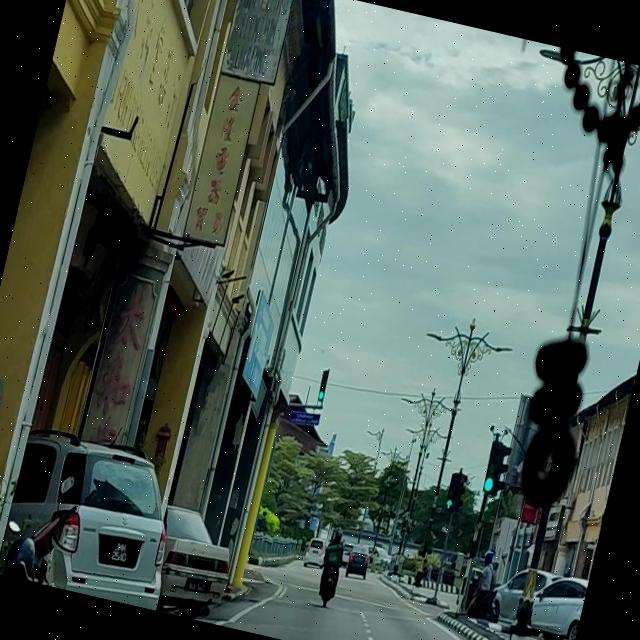green_light: (481, 439, 504, 494), (444, 471, 460, 508), (315, 369, 329, 403)
